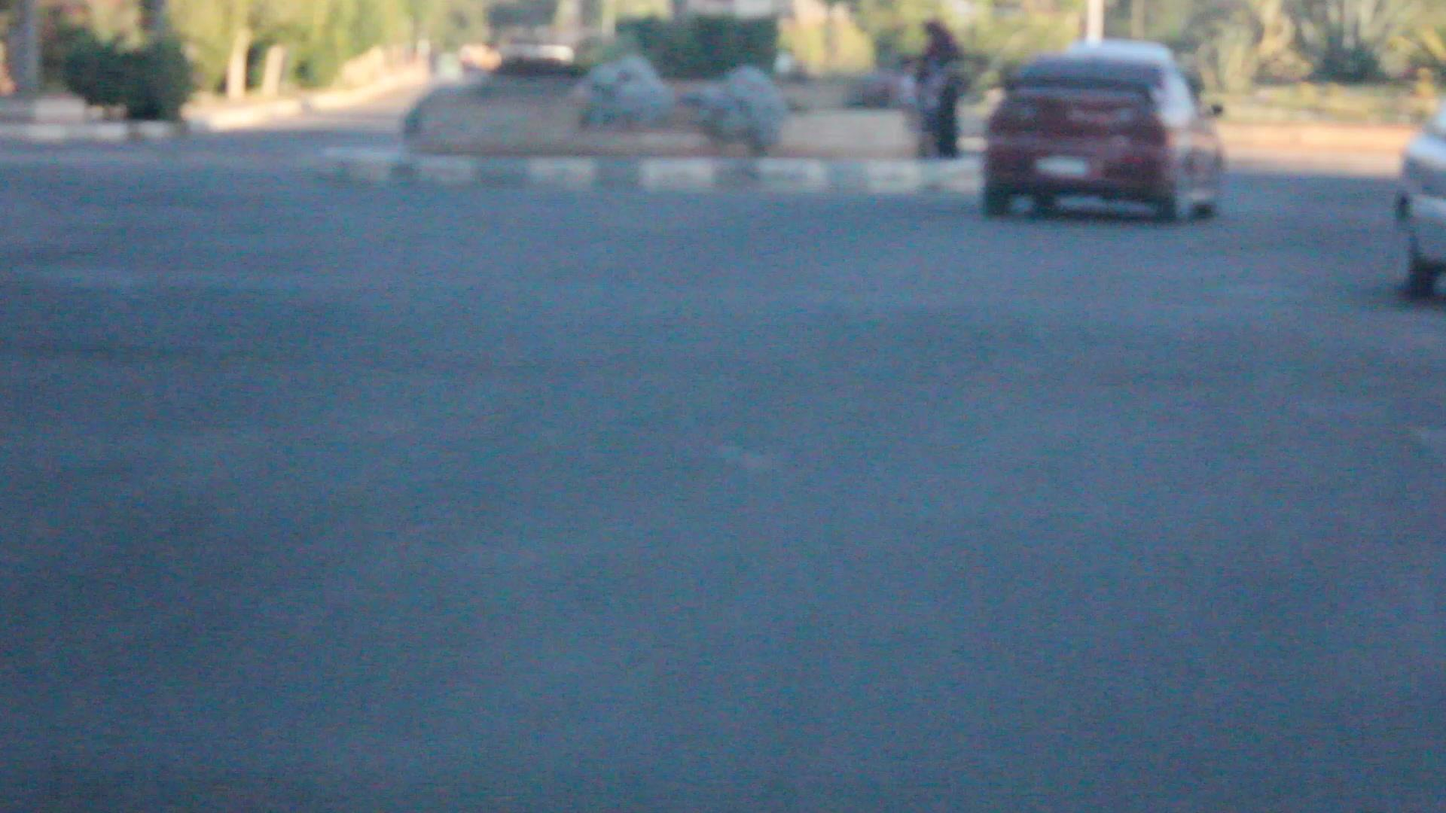Bump: (8, 260, 1446, 397)
